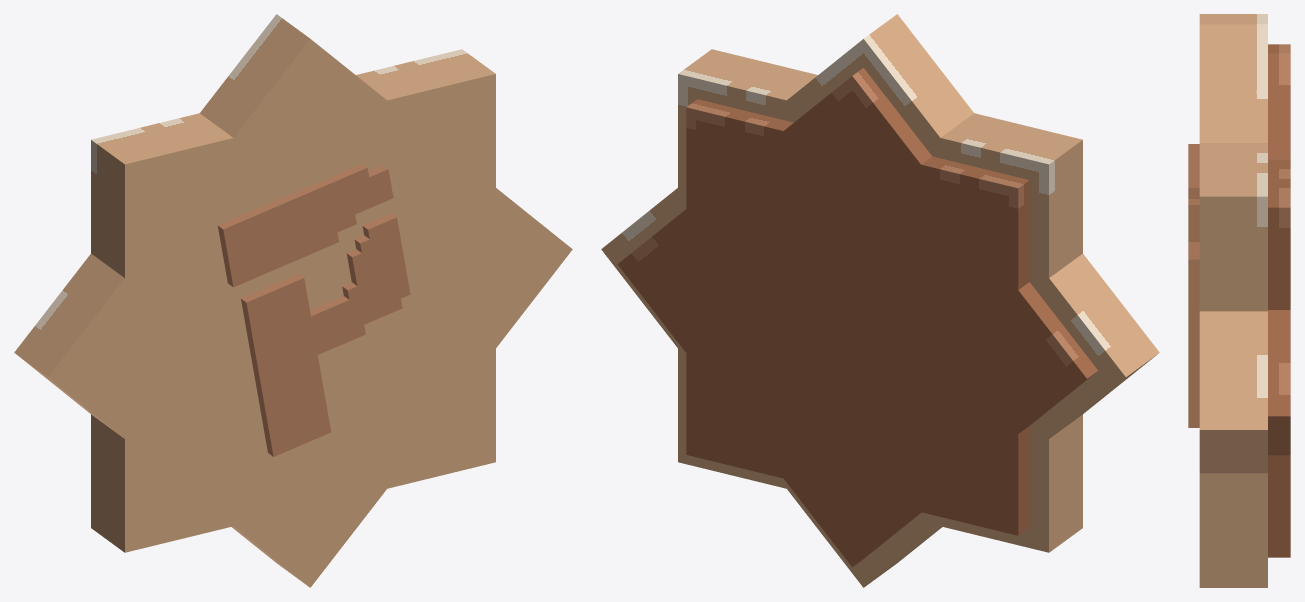
File: background_c_bronze.gltf
3 views of the same model, side by side, from view 1: azimuth 30°, elevation 25°; view 2: azimuth 150°, elevation 25°; view 3: azimuth 270°, elevation 25° (orthographic).
Visible parts, largest first — view 1: Main1-Local, Main2-Local, BackP-Local; view 2: Main2-Local, Main1-Local; view 3: Main1-Local, Main2-Local, BackP-Local.
Boxes of the visible parts, x1,y1,x2,y2 form: Main1-Local: (91,49,495,552); Main2-Local: (14,14,572,587); BackP-Local: (217,163,410,456); Main2-Local: (601,14,1159,587); Main1-Local: (678,49,1082,552); Main1-Local: (1199,14,1290,587); Main2-Local: (1199,24,1290,473); BackP-Local: (1188,144,1199,427).
Bounding box in the file's own units: 53.74 × 53.74 × 9.
Materials: 3 (3 with a texture image).
